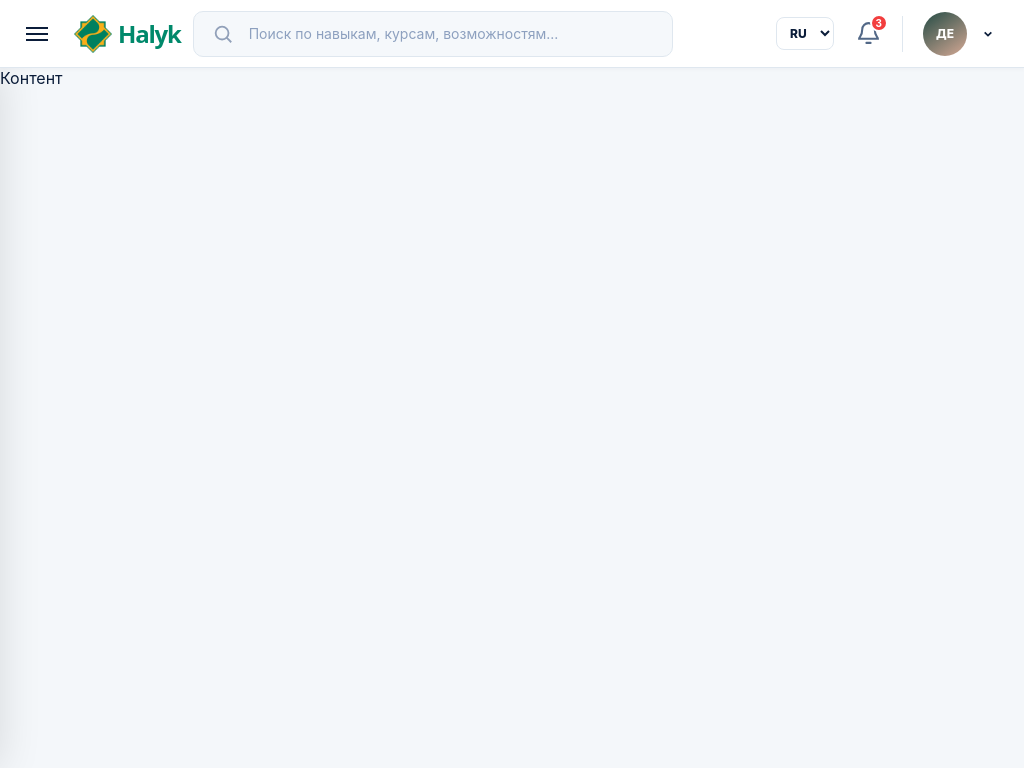
Test: AppShell navigation › exposes an operable mobile navigation toggle
Click the button named "Открыть навигацию" at (41, 34), box [20,12,62,54]
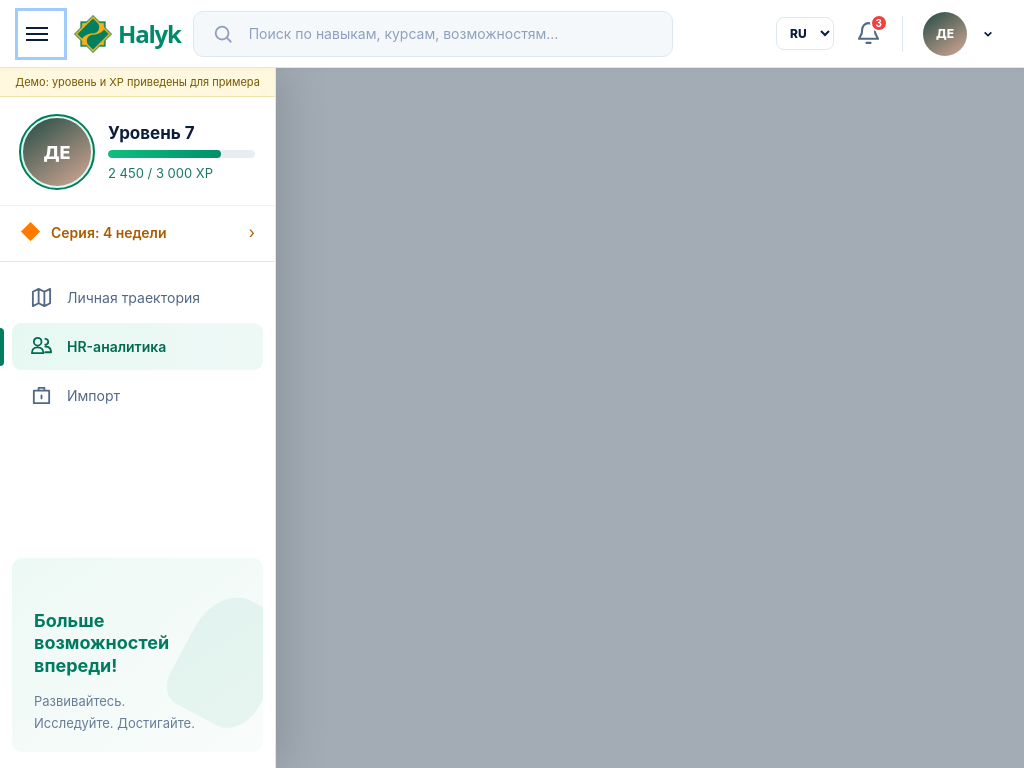
Expected: the button named "Закрыть навигацию" is shown
